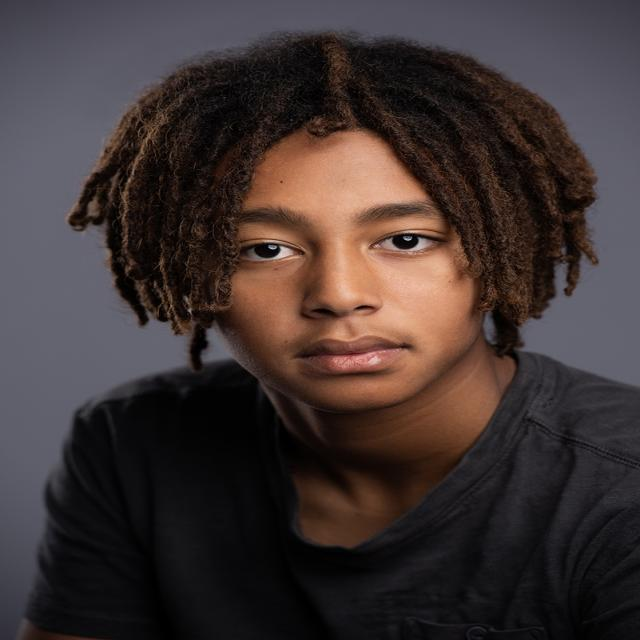nothing: (58, 6, 618, 252)
